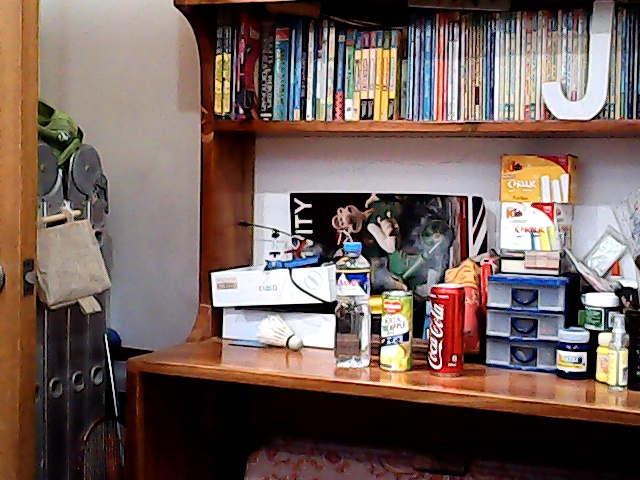Cola: (429, 286, 464, 374)
Pine Juice: (378, 294, 410, 369)
Summit Water: (333, 244, 370, 366)
